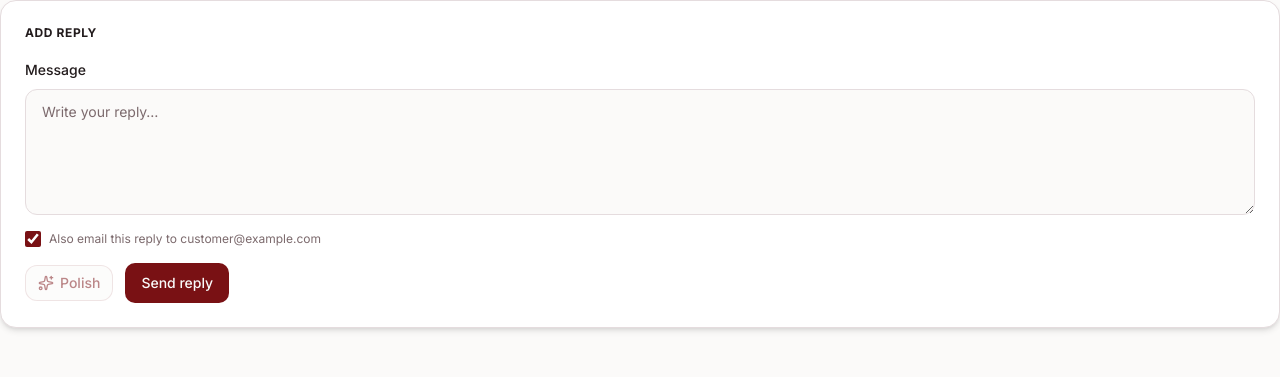
Test case: ReplyForm › shows Zod validation error when message is empty
The width and height of the screenshot is (1280, 377).
Click the button "Send reply" at x=177, y=283, box [125,263,229,303]
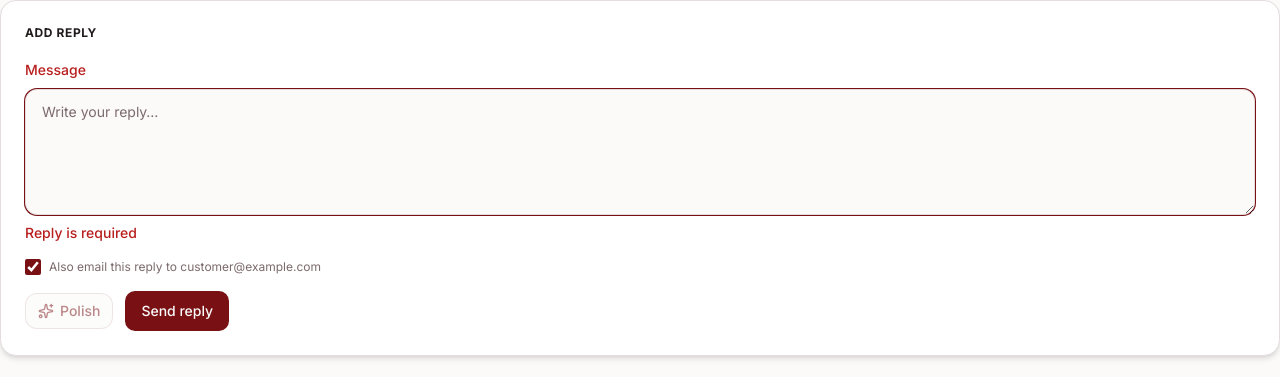
Now the text "Reply is required" is shown, box [25,224,137,241]
